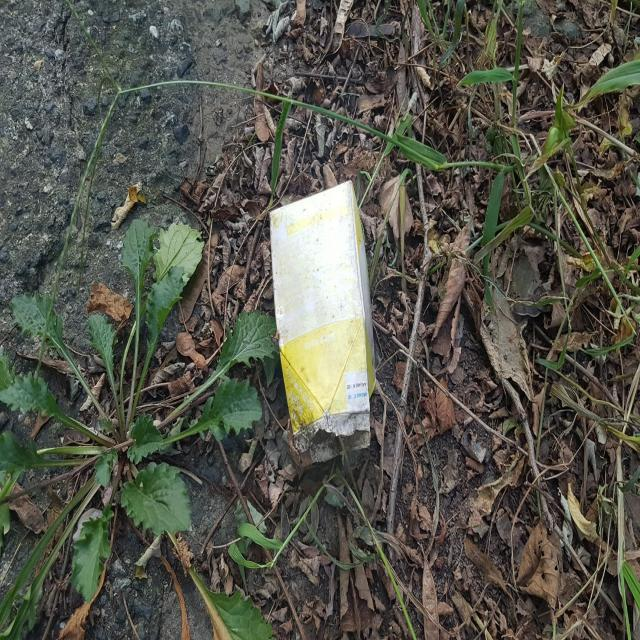paperpack: (270, 180, 375, 461)
